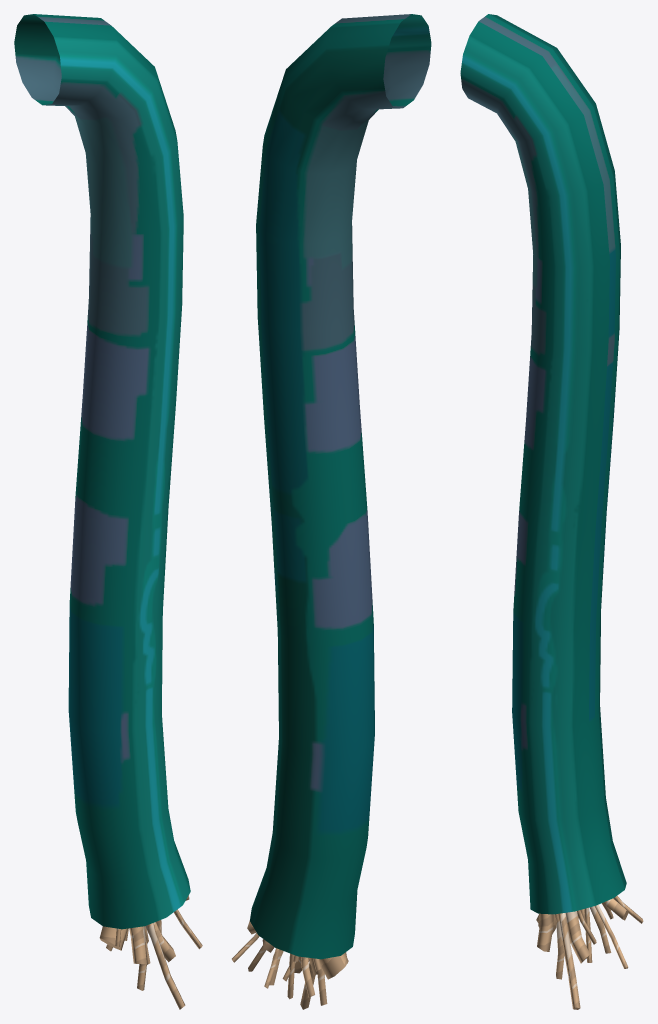
The model's file is Sm_Wire_Mid_Broken.fbx.
3 renders of one model, left to right at view 1: azimuth 30°, elevation 25°; view 2: azimuth 150°, elevation 25°; view 3: azimuth 330°, elevation 25°, orthographic. The views are drawn at different scales.
Visible parts, largest first — view 1: Sm_Wire_Mid_Broken; view 2: Sm_Wire_Mid_Broken; view 3: Sm_Wire_Mid_Broken.
Boxes of the visible parts, x1=… form: Sm_Wire_Mid_Broken: x1=14, y1=14, x2=202, y2=1009; Sm_Wire_Mid_Broken: x1=232, y1=14, x2=431, y2=1009; Sm_Wire_Mid_Broken: x1=460, y1=14, x2=643, y2=1009.
Bounding box in the file's own units: 9.65 × 0.9483 × 1.61.
1 material, 1 textured.
